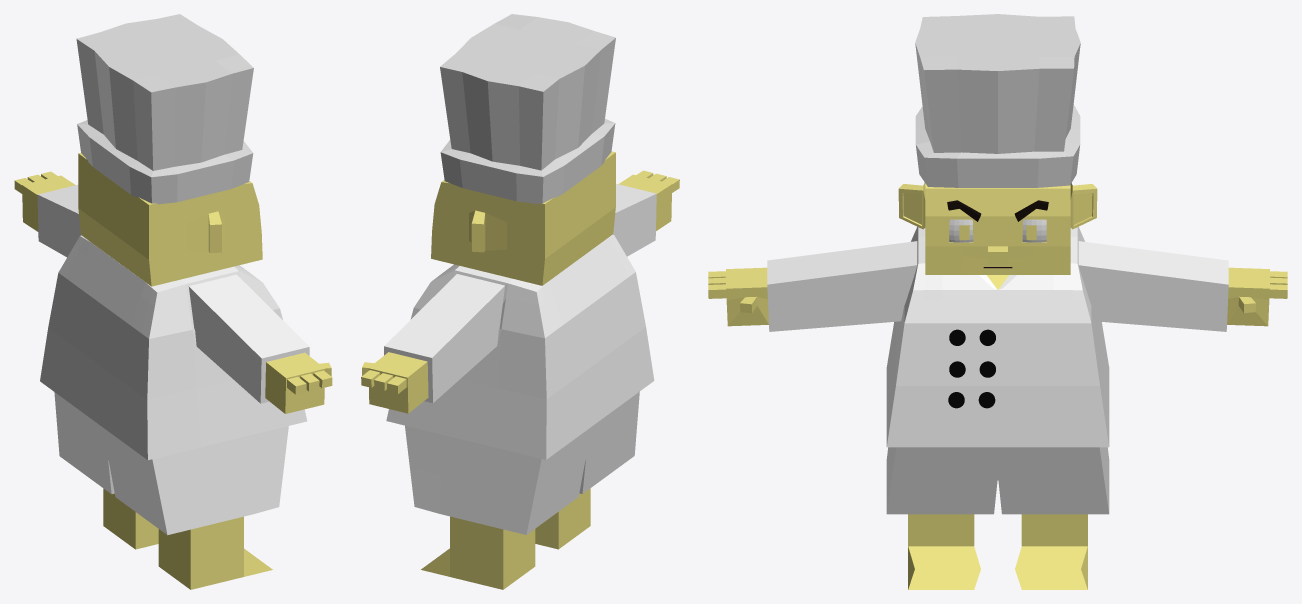
The model's file is ChefMal.fbx.
3 renders of one model, left to right at view 1: azimuth 30°, elevation 25°; view 2: azimuth 150°, elevation 25°; view 3: azimuth 270°, elevation 25°, orthographic. The views are drawn at different scales.
Visible parts, largest first — view 1: Cube, Cube.002, Cube.001; view 2: Cube, Cube.002, Cube.001; view 3: Cube, Cube.002, Cube.001.
Part boxes in pixels (x1,y1,x2,y2): Cube: (14, 171, 332, 589); Cube.002: (76, 14, 253, 204); Cube.001: (78, 153, 262, 286); Cube: (361, 170, 679, 589); Cube.002: (440, 14, 615, 204); Cube.001: (431, 151, 615, 285); Cube: (708, 227, 1287, 589); Cube.002: (915, 14, 1080, 187); Cube.001: (898, 182, 1097, 274).
Size of the model in its own units: 118 by 355 by 362.
